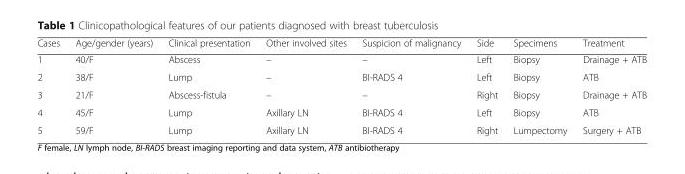table: (36, 36, 646, 135)
table column: (353, 36, 468, 135), (159, 36, 257, 135), (257, 36, 353, 135), (66, 36, 159, 135), (574, 36, 646, 135), (504, 36, 574, 135), (468, 36, 504, 135), (36, 36, 66, 135)
table column header: (36, 36, 646, 50)
table row: (36, 67, 646, 85), (36, 85, 646, 103), (36, 50, 646, 67), (36, 103, 646, 120), (36, 120, 646, 135), (36, 36, 646, 50)
